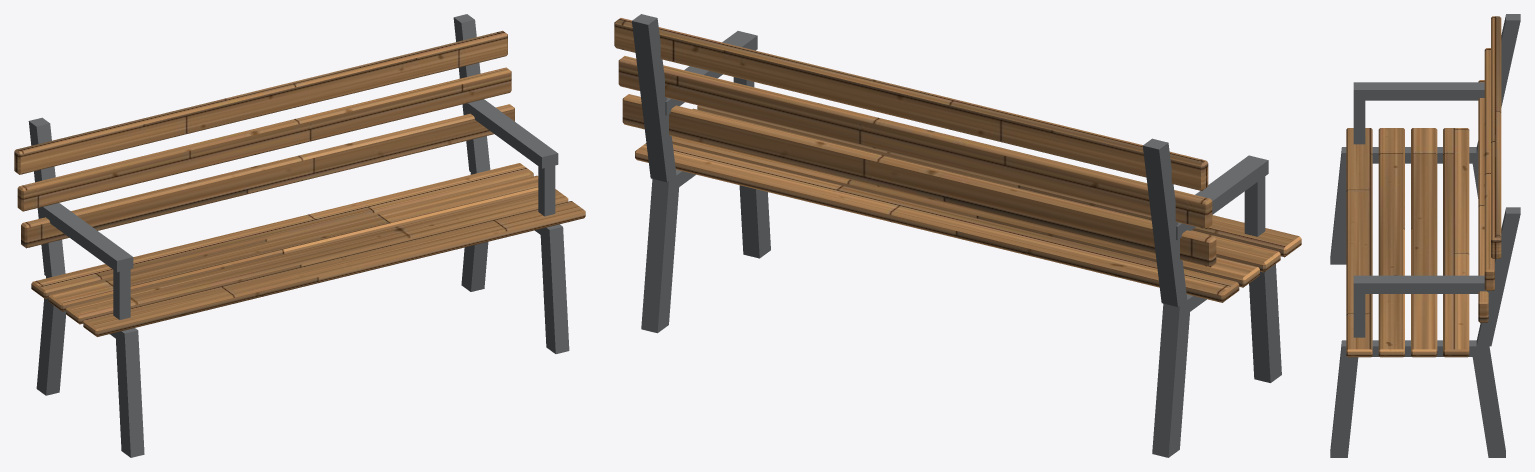
File: park_bench.glb
3 renders of one model, left to right at view 1: azimuth 30°, elevation 25°; view 2: azimuth 150°, elevation 25°; view 3: azimuth 270°, elevation 25°, orthographic. The views are drawn at different scales.
Parts seen in each view (by area): view 1: park_bench_wood, park_bench_iron; view 2: park_bench_wood, park_bench_iron; view 3: park_bench_wood, park_bench_iron.
Boxes of the visible parts, box(x1,y1,x2,y2) form: park_bench_wood: box(14, 30, 585, 336); park_bench_iron: box(28, 14, 569, 457); park_bench_wood: box(614, 18, 1301, 302); park_bench_iron: box(632, 14, 1281, 457); park_bench_wood: box(1346, 16, 1501, 357); park_bench_iron: box(1330, 14, 1520, 457).
Bounding box in the file's own units: 1.8 × 0.92 × 0.65.
2 materials, 1 textured.
